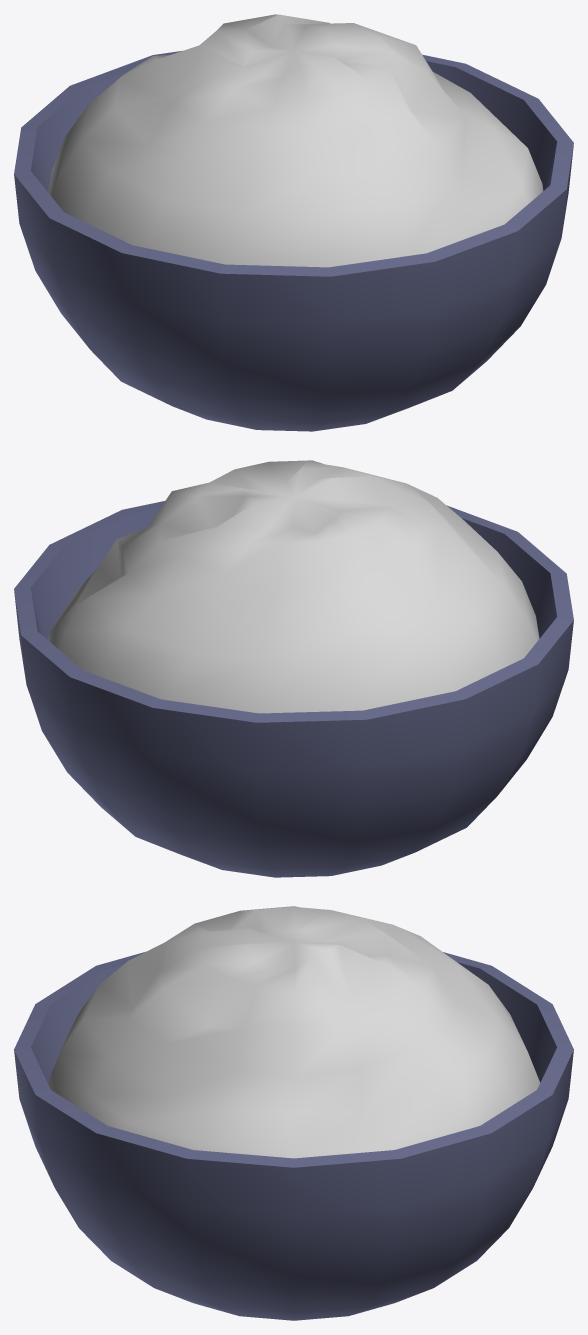
File: rice ingredient.fbx
The picture shows the model from 3 angles, top to bottom: view 1: azimuth 30°, elevation 25°; view 2: azimuth 150°, elevation 25°; view 3: azimuth 270°, elevation 25°; orthographic projection.
Visible parts, largest first — view 1: ricy_bowl2; view 2: ricy_bowl2; view 3: ricy_bowl2.
Part boxes in pixels (box(x1,y1,x2,y2)): ricy_bowl2: box(14, 14, 573, 431); ricy_bowl2: box(14, 460, 573, 877); ricy_bowl2: box(14, 906, 573, 1320).
Size of the model in its own units: 41.54 by 28.42 by 41.54.
